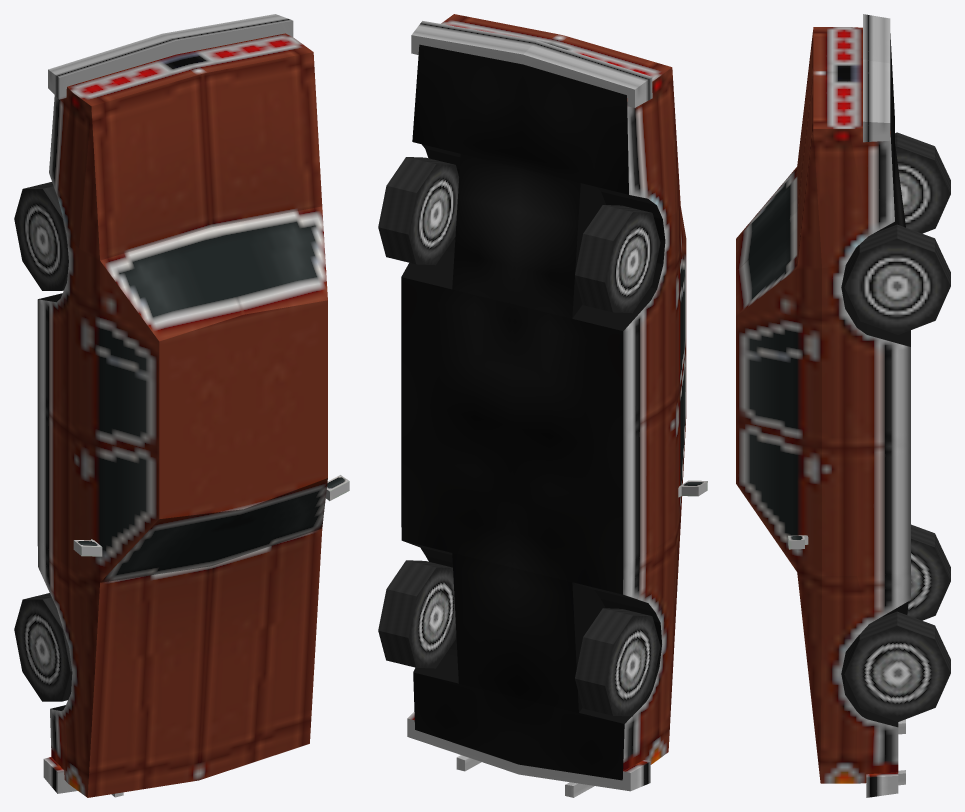
Rendered from car5.obj.
The picture shows the model from 3 angles, left to right: view 1: azimuth 30°, elevation 25°; view 2: azimuth 150°, elevation 25°; view 3: azimuth 270°, elevation 25°; orthographic projection. The views are drawn at different scales.
Visible parts, largest first — view 1: car5; view 2: car5; view 3: car5.
Boxes of the visible parts, x1,y1,x2,y2 form: car5: (14,14,349,797); car5: (378,14,707,797); car5: (736,14,950,797).
Size of the model in its own units: 89.72 by 238 by 66.01.
Materials: 1 (1 with a texture image).
